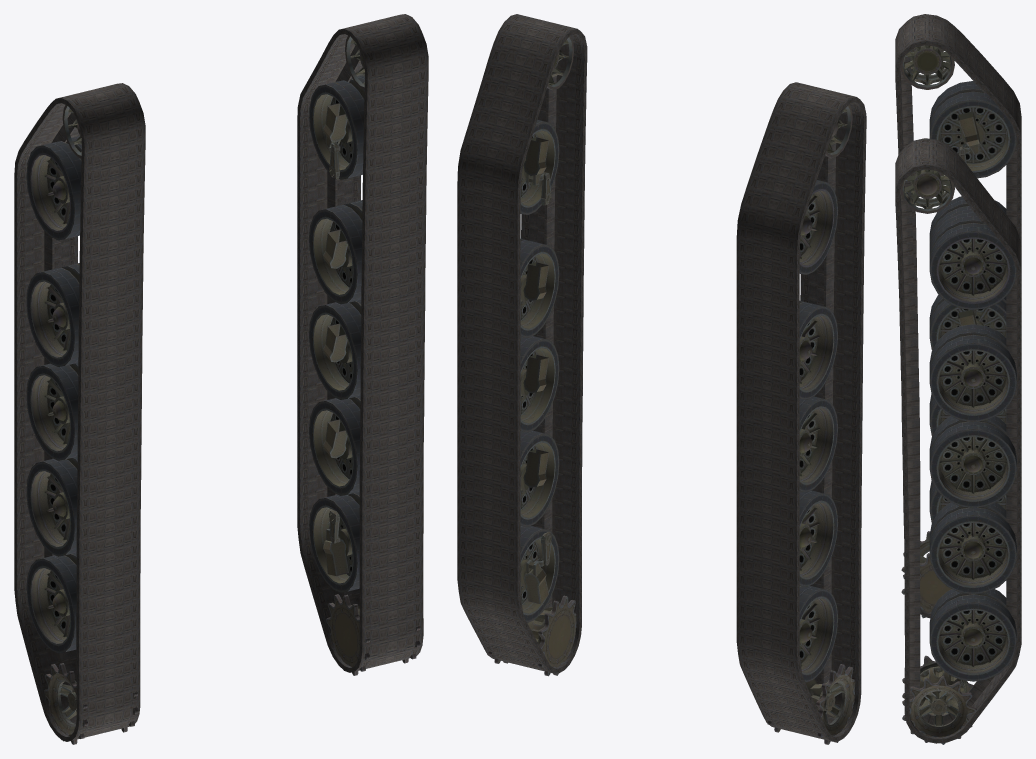
Rendered from Chassis.glb.
The picture shows the model from 3 angles, left to right: view 1: azimuth 30°, elevation 25°; view 2: azimuth 150°, elevation 25°; view 3: azimuth 270°, elevation 25°; orthographic projection. The views are drawn at different scales.
Visible parts, largest first — view 1: set_1_group_0, set_0_group_0, set_3_group_0, set_2_group_0; view 2: set_1_group_0, set_0_group_0, set_3_group_0, set_2_group_0; view 3: set_3_group_0, set_0_group_0, set_2_group_0, set_1_group_0.
Boxes of the visible parts, x1,y1,x2,y2 form: set_1_group_0: (14, 83, 145, 741); set_0_group_0: (297, 14, 428, 672); set_3_group_0: (309, 35, 420, 675); set_2_group_0: (26, 105, 138, 744); set_1_group_0: (736, 82, 866, 741); set_0_group_0: (457, 14, 587, 673); set_3_group_0: (488, 35, 576, 676); set_2_group_0: (767, 104, 854, 744); set_3_group_0: (900, 169, 1016, 744); set_0_group_0: (895, 138, 1021, 743); set_2_group_0: (900, 45, 1016, 618); set_1_group_0: (895, 14, 1021, 618).
Size of the model in its own units: 3.25 by 5.83 by 1.15.
4 materials, 4 textured.
